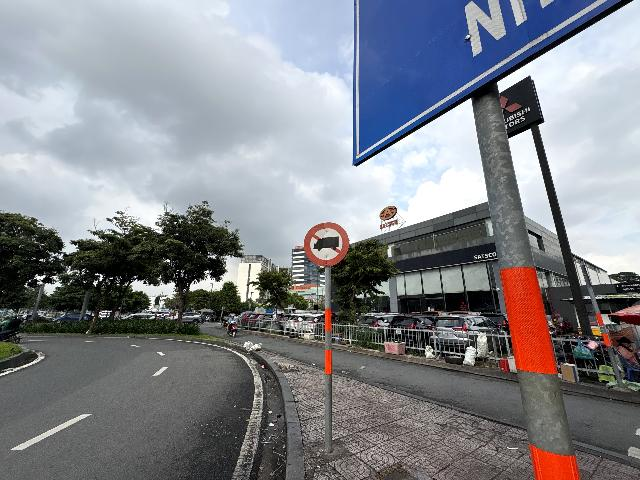cam-xe-tai: (304, 223, 348, 265)
